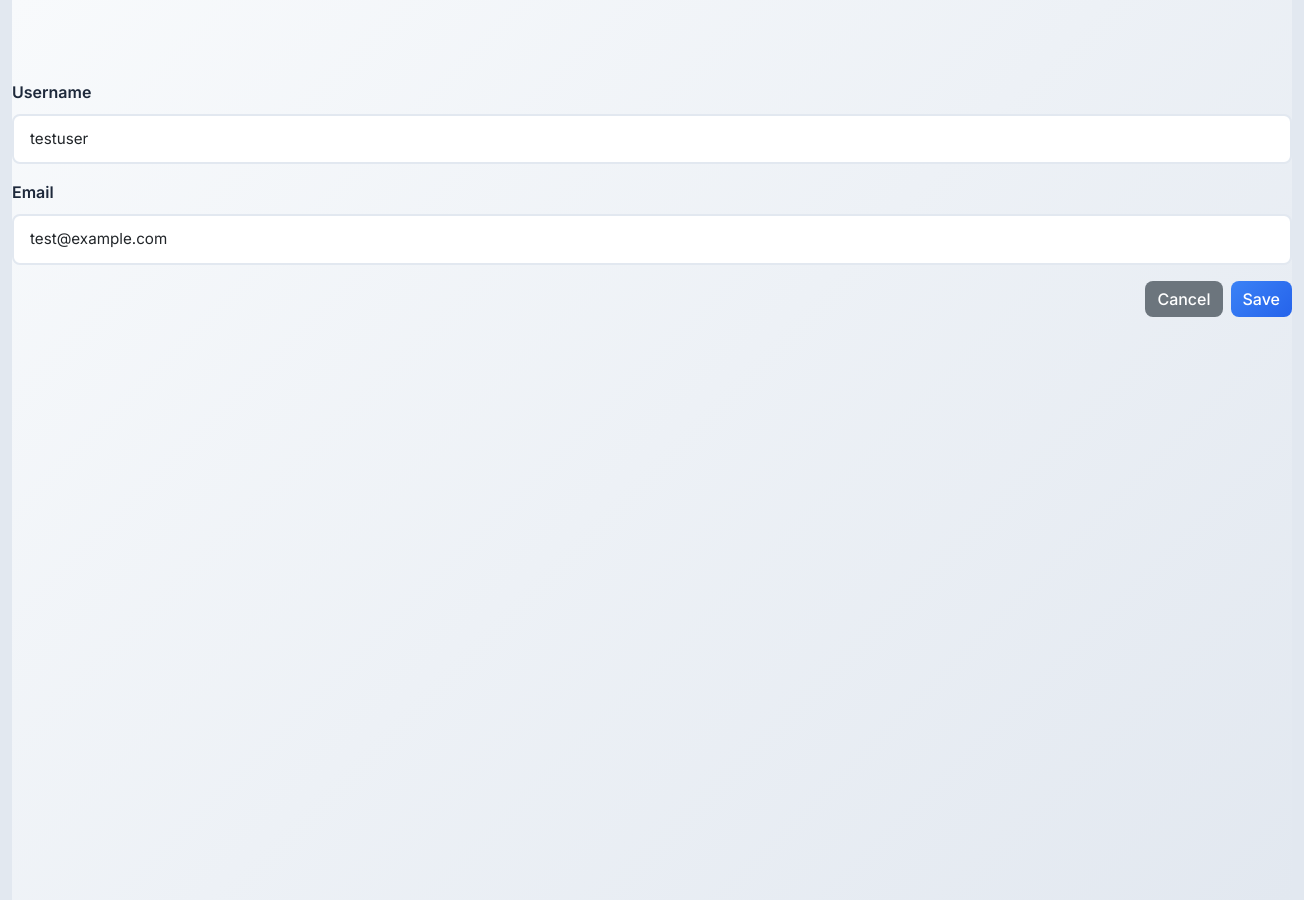
EditProfileForm Component › shows error when email is empty
Clear the field labelled "Email" at coordinates (652, 239), box [12,214,1292,265]
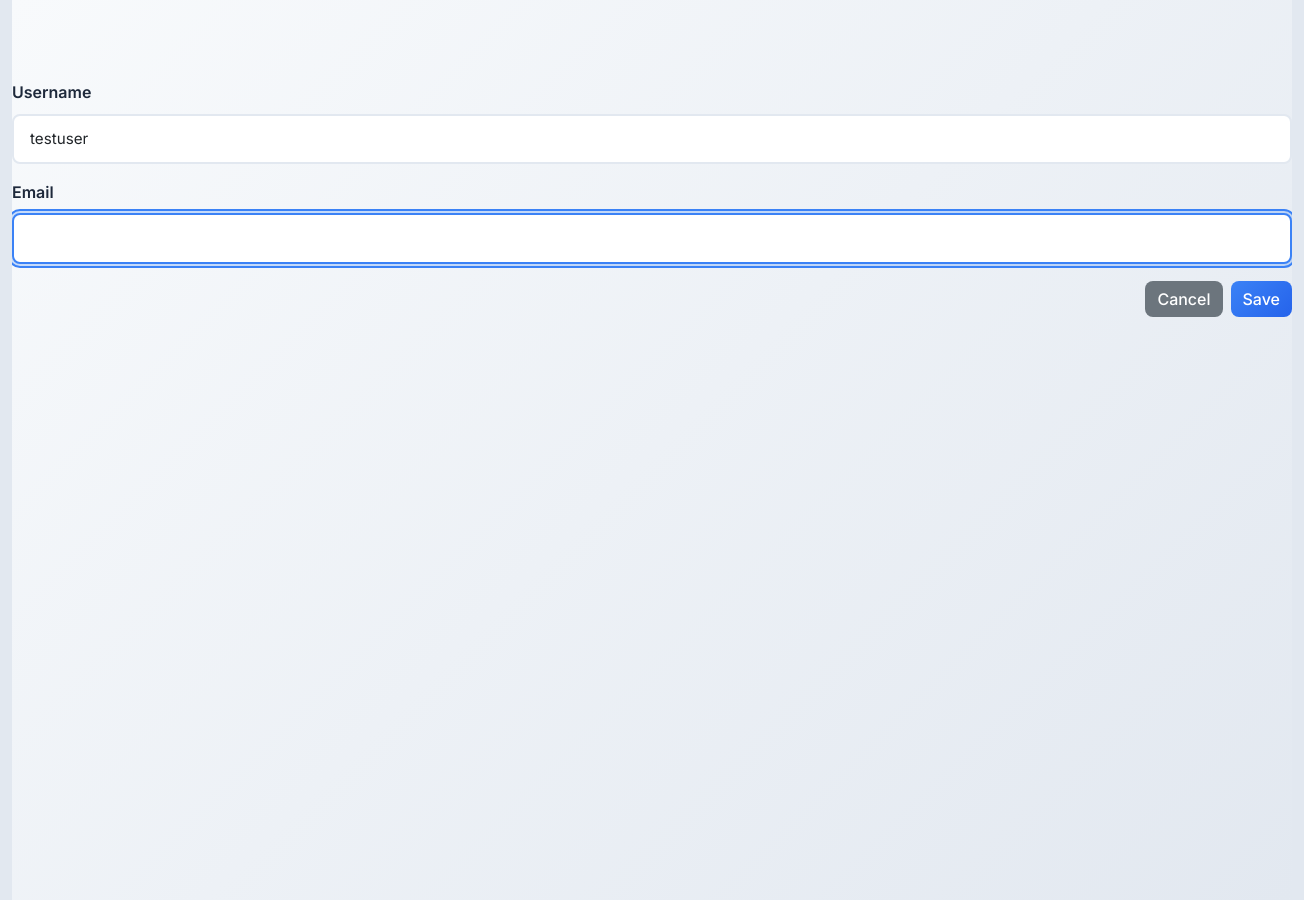
Click the button "Save" at coordinates (1261, 299), box [1230,281,1292,317]
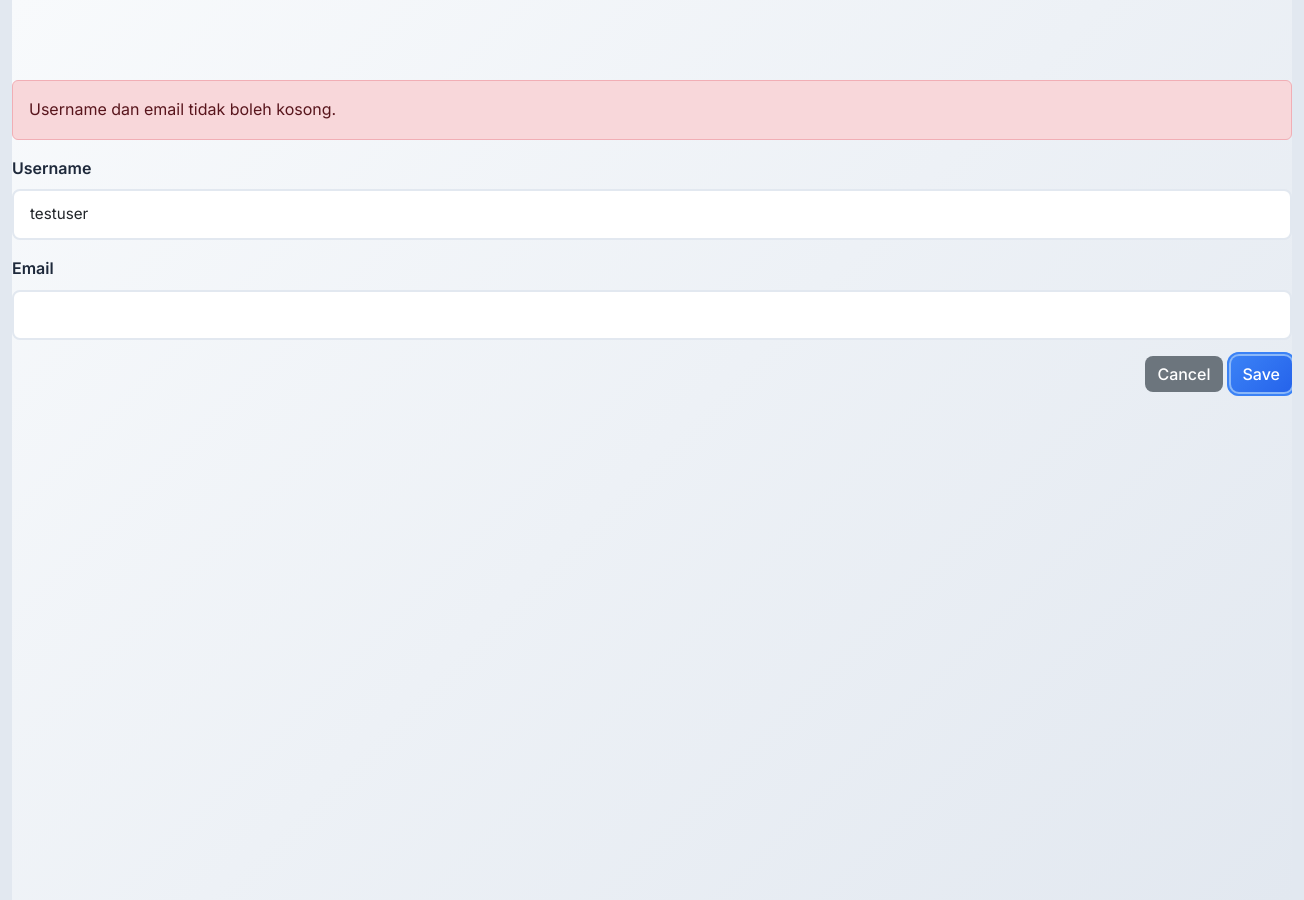
Result: the text "Username dan email tidak boleh kosong." is shown at [12,80,1292,140]
